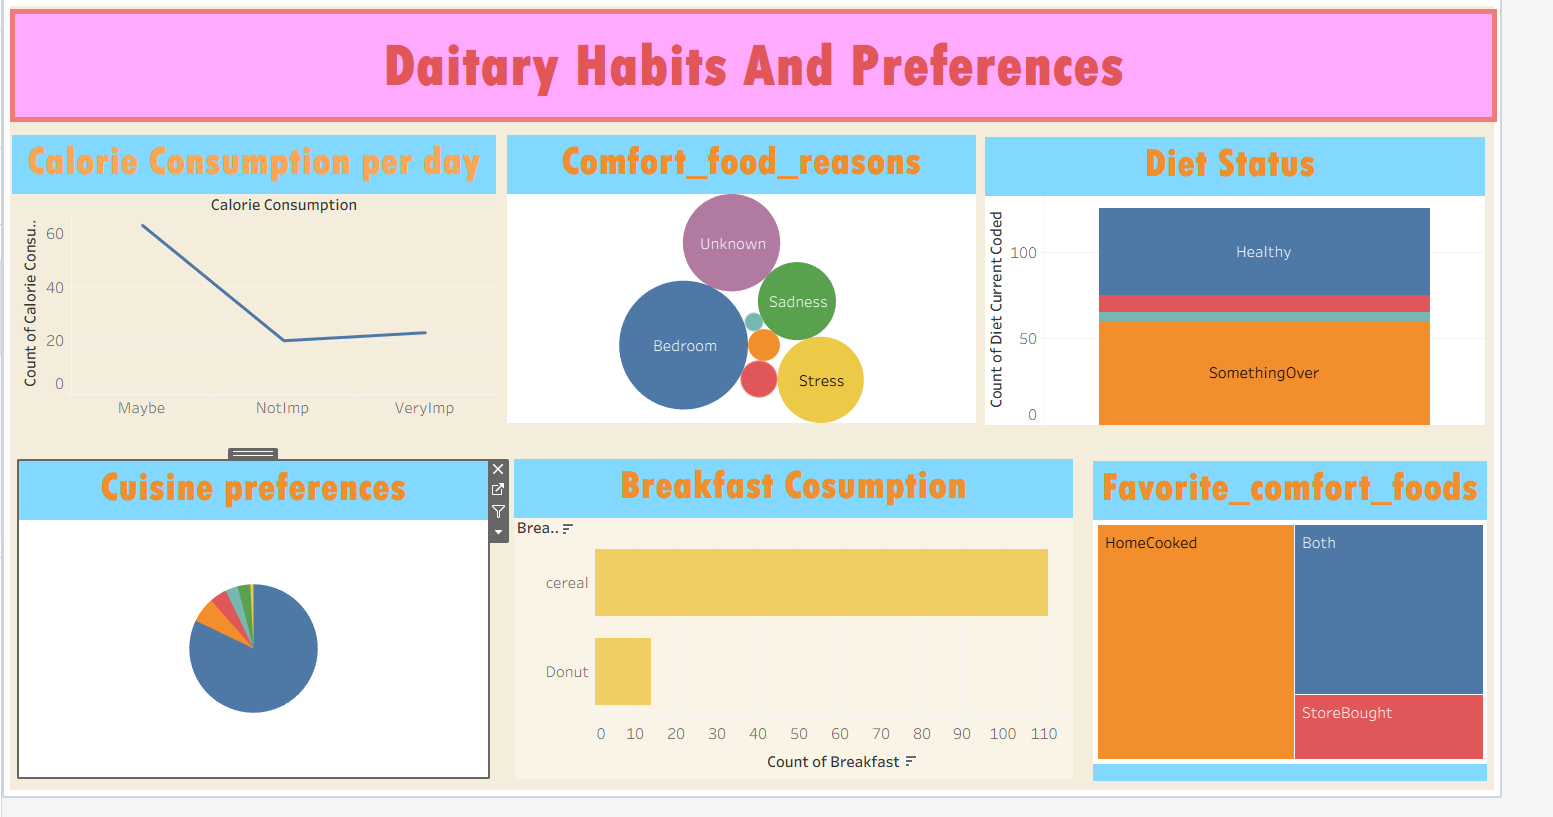

This screenshot's page, from the dashboard's own definition file:
{"tool":"tableau","page":{"name":"Dietary Habits and Preferences","canvas":[1500,800],"ordinal":0},"visuals":[{"type":"text","box":[8,11,1487,113]},{"type":"worksheet","title":"Calorie Consumption per day","mark":"Line","rows":["Calculation_1178535752153427973"],"cols":["Calculation_1178535752153427973"],"box":[10,137,484,284]},{"type":"worksheet","title":"Comfort_food_reasons","mark":"Circle","box":[505,137,469,288]},{"type":"worksheet","title":"Diet Status ","mark":"Bar","rows":["diet_current_coded"],"box":[983,139,500,288]},{"type":"worksheet","title":"Breakfast Cosumption","mark":"Bar","rows":["Breakfast (copy)_1178535752171966474"],"cols":["breakfast"],"box":[512,461,559,320]},{"type":"worksheet","title":"Cuisine preferences","mark":"Pie","box":[17,463,469,316]},{"type":"worksheet","title":"Favorite_comfort_foods","mark":"Automatic","box":[1091,463,394,320]}]}

Visuals, with their boxes in screenshot pixels (x1, y1, x2, y2), scaled from the page's 1500x800 canvas onto the 1553x817 screenshot:
text: crop(8, 11, 1548, 127)
"Calorie Consumption per day" worksheet (Line marks): crop(10, 140, 511, 430)
"Comfort_food_reasons" worksheet (Circle marks): crop(523, 140, 1008, 434)
"Diet Status " worksheet (Bar marks): crop(1018, 142, 1535, 436)
"Breakfast Cosumption" worksheet (Bar marks): crop(530, 471, 1109, 798)
"Cuisine preferences" worksheet (Pie marks): crop(18, 473, 503, 796)
"Favorite_comfort_foods" worksheet: crop(1130, 473, 1537, 800)
